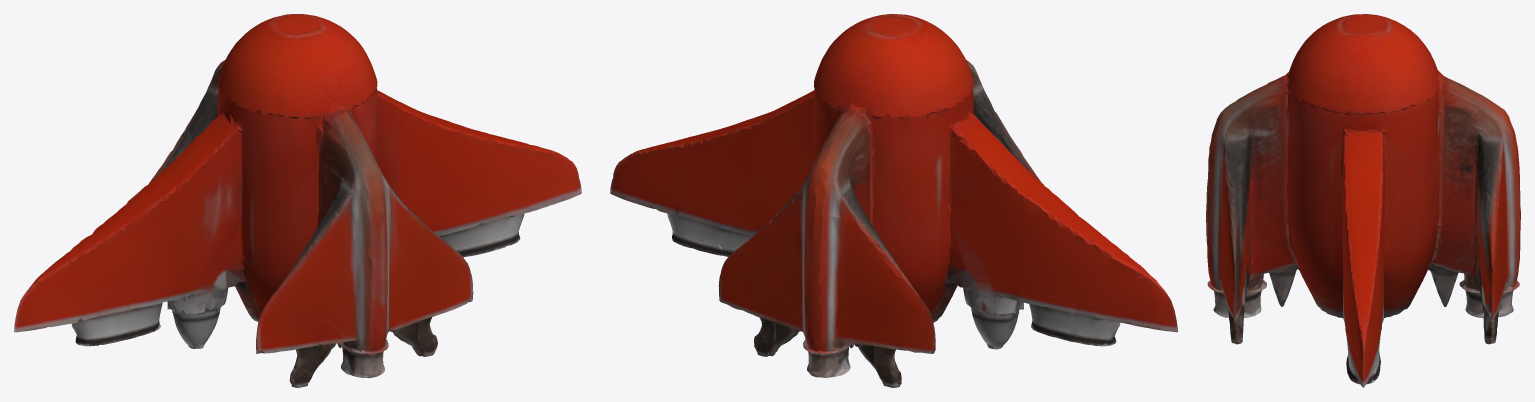
The model's file is viper_engine_aux.glb.
3 renders of one model, left to right at view 1: azimuth 30°, elevation 25°; view 2: azimuth 150°, elevation 25°; view 3: azimuth 270°, elevation 25°, orthographic. The views are drawn at different scales.
Visible parts, largest first — view 1: viper_engine_aux; view 2: viper_engine_aux; view 3: viper_engine_aux.
Boxes of the visible parts, box(x1,y1,x2,y2) form: viper_engine_aux: box(14, 14, 581, 387); viper_engine_aux: box(610, 14, 1177, 387); viper_engine_aux: box(1206, 14, 1520, 387).
Bounding box in the file's own units: 1.9 × 0.9466 × 0.9425.
1 material, 1 textured.
